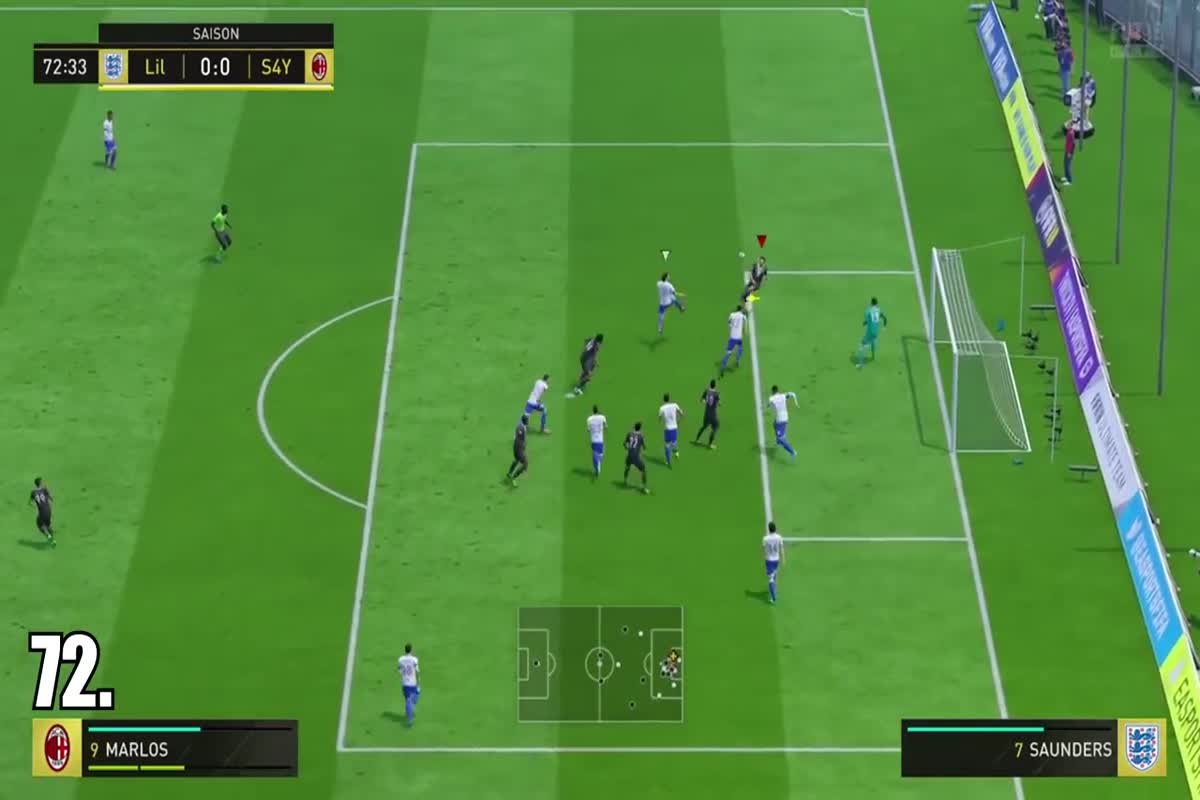ball: (728, 245, 753, 262)
